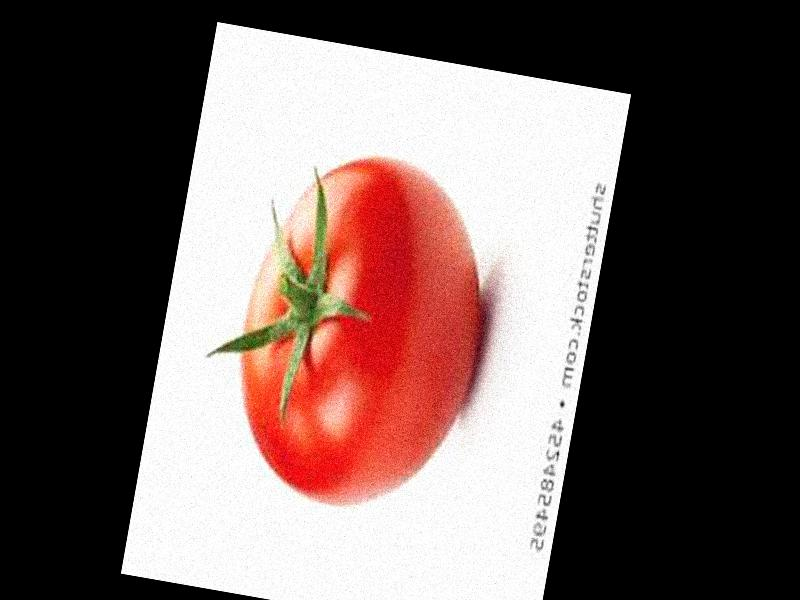Tomato: (218, 143, 507, 520)
